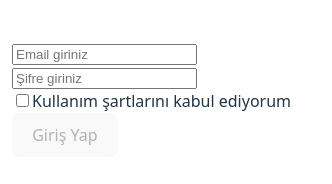
Login E2E › Geçersiz email hatası
Type "testmail.com" into the field with placeholder "Email giriniz". click: (105, 55)
box: [12,44,197,65]
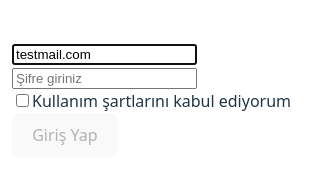
Type "123456" into the password field with placeholder "Şifre giriniz". click: (105, 79)
box: [12,68,197,89]
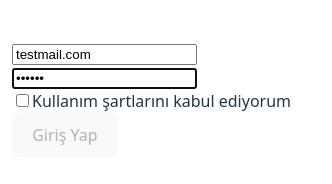
Check the checkbox labelled "Kullanım şartlarını kabul ediyorum". click: (23, 101)
box: [16,94,29,107]
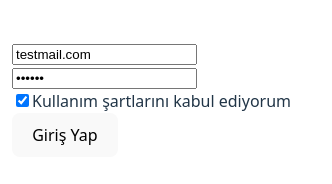
Click the button "Giriş Yap". click: (65, 135)
box: [12,113,118,156]
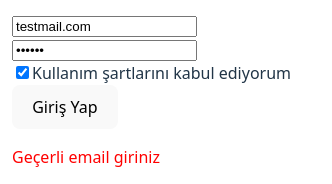
Expected: the text "Geçerli email giriniz" is shown, [12,146,160,168]
